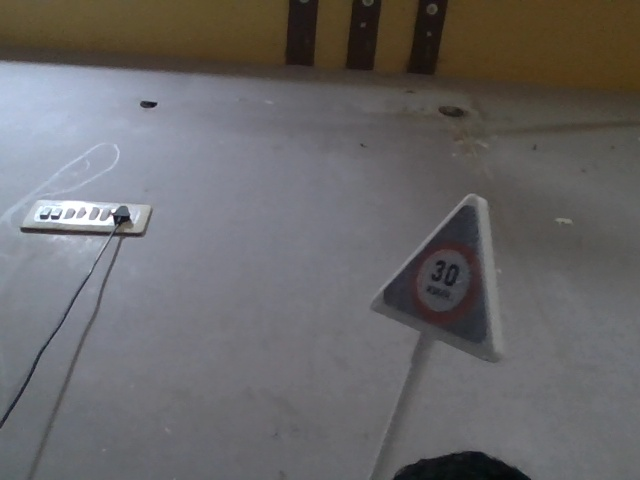speedlimit: (361, 183, 501, 349)
